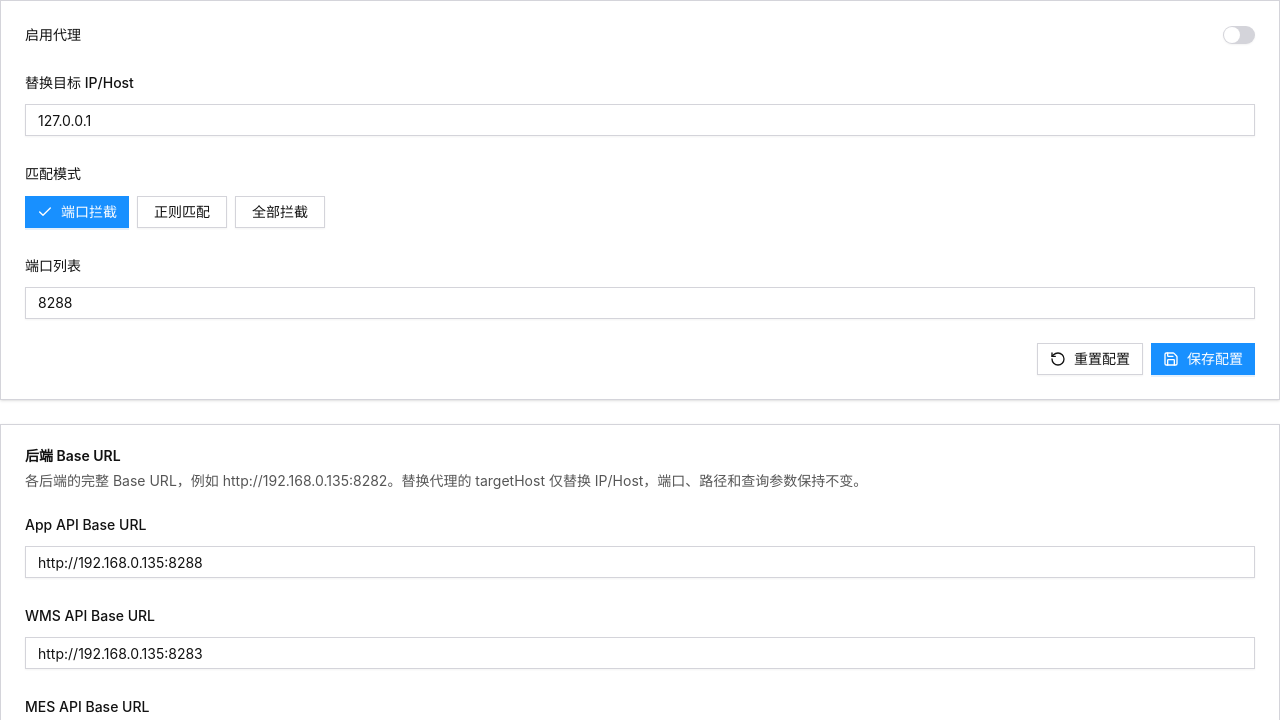
it: DebugIpRewriteProxyPage › shows only the regex field in regex mode
Expected: the text "端口列表" is shown, x1=25 y1=256 x2=81 y2=274
Click the button "正则匹配" at (182, 212), box x1=137 y1=196 x2=227 y2=228
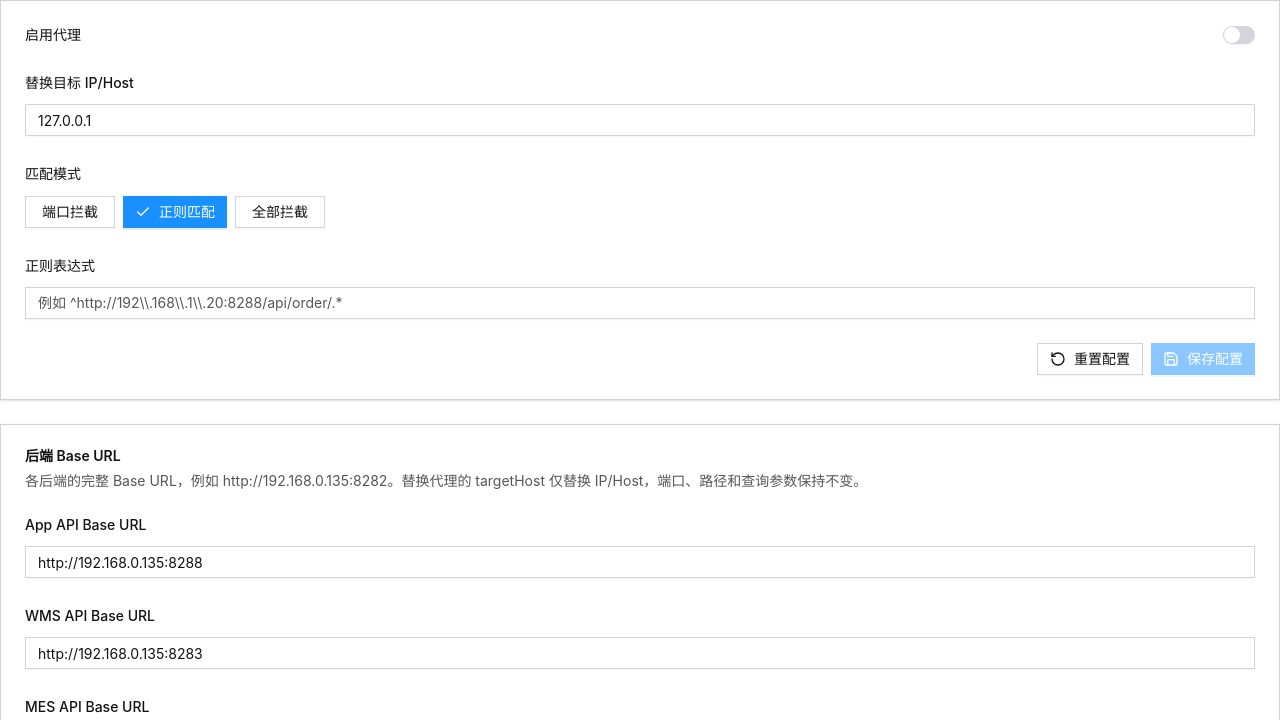
Expected: the text "正则表达式" is shown, x1=25 y1=256 x2=95 y2=274
Expected: the text "端口列表" is gone
